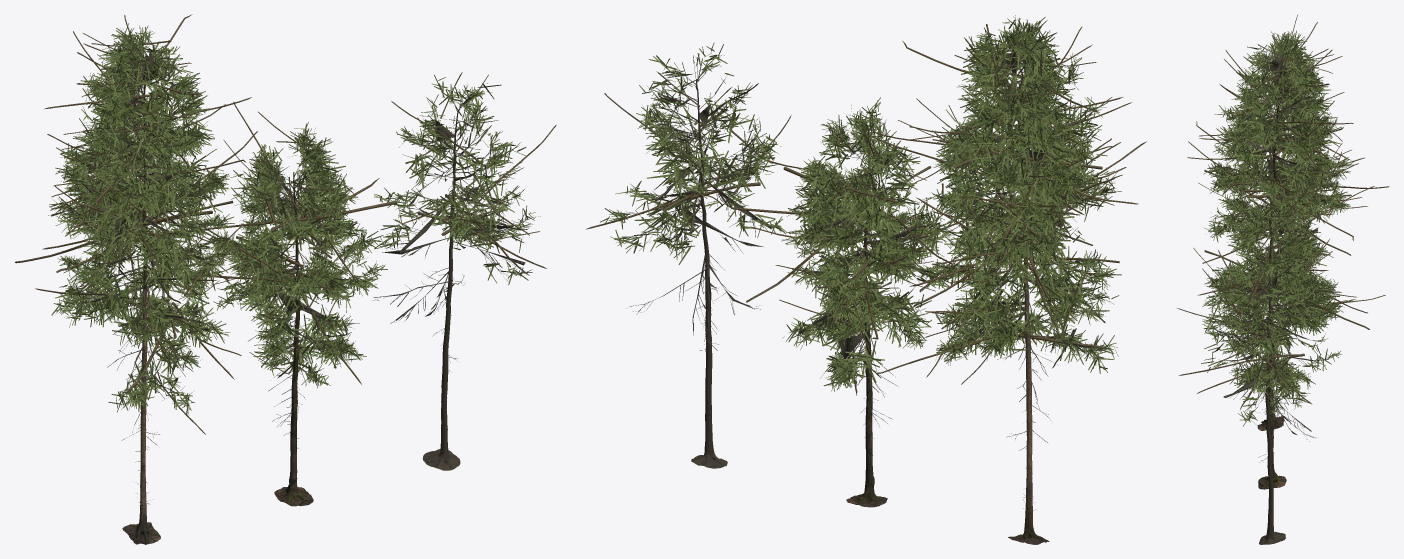
The picture shows the model from 3 angles, left to right: view 1: azimuth 30°, elevation 25°; view 2: azimuth 150°, elevation 25°; view 3: azimuth 270°, elevation 25°; orthographic projection. The views are drawn at different scales.
Parts seen in each view (by area): view 1: fir_tree_01_a_LOD0.003, fir_tree_01_a_LOD0.001, fir_tree_01_a_LOD0, fir_tree_01_a_LOD0.002, fir_tree_01_a_LOD0.005, fir_tree_01_a_LOD0.004; view 2: fir_tree_01_a_LOD0.003, fir_tree_01_a_LOD0.001, fir_tree_01_a_LOD0, fir_tree_01_a_LOD0.002, fir_tree_01_a_LOD0.005, fir_tree_01_a_LOD0.004; view 3: fir_tree_01_a_LOD0.003, fir_tree_01_a_LOD0.001, fir_tree_01_a_LOD0, fir_tree_01_a_LOD0.005, fir_tree_01_a_LOD0.002.
Boxes of the visible parts, x1,y1,x2,y2 form: fir_tree_01_a_LOD0.003: (15, 14, 556, 434); fir_tree_01_a_LOD0.001: (71, 43, 525, 399); fir_tree_01_a_LOD0: (422, 113, 460, 470); fir_tree_01_a_LOD0.002: (122, 70, 160, 544); fir_tree_01_a_LOD0.005: (274, 172, 313, 506); fir_tree_01_a_LOD0.004: (107, 267, 457, 483); fir_tree_01_a_LOD0.003: (586, 15, 1146, 395); fir_tree_01_a_LOD0.001: (623, 35, 1104, 365); fir_tree_01_a_LOD0: (691, 89, 727, 468); fir_tree_01_a_LOD0.002: (1008, 56, 1049, 544); fir_tree_01_a_LOD0.005: (846, 154, 887, 507); fir_tree_01_a_LOD0.004: (686, 253, 1069, 487); fir_tree_01_a_LOD0.003: (1177, 15, 1389, 426); fir_tree_01_a_LOD0.001: (1213, 44, 1333, 441); fir_tree_01_a_LOD0: (1259, 274, 1285, 544); fir_tree_01_a_LOD0.005: (1258, 227, 1286, 489); fir_tree_01_a_LOD0.002: (1257, 67, 1284, 430).
Size of the model in its own units: 19.81 by 19.18 by 9.34.
Materials: 6 (6 with a texture image).
